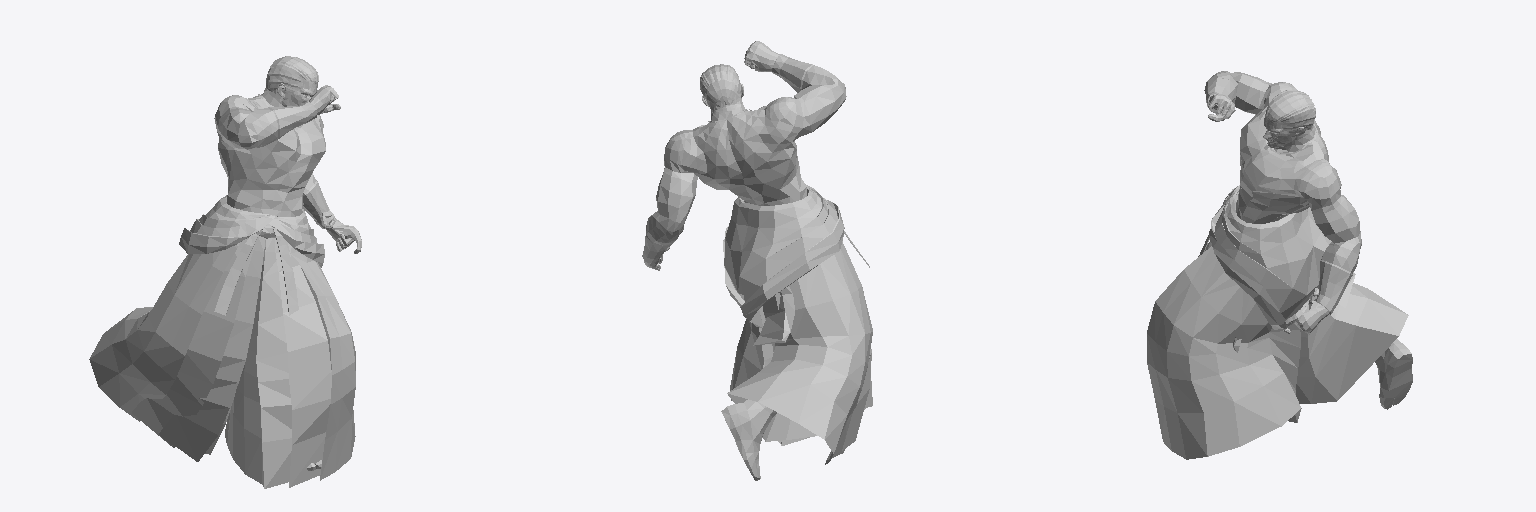
The model's file is geese_attack_000021.obj.
3 renders of one model, left to right at view 1: azimuth 30°, elevation 25°; view 2: azimuth 150°, elevation 25°; view 3: azimuth 270°, elevation 25°, orthographic.
Parts seen in each view (by area): view 1: GamemodelShape1.002, hairShape; view 2: GamemodelShape1.002, hairShape; view 3: GamemodelShape1.002, hairShape.
Part boxes in pixels (left/top/right/bottom): GamemodelShape1.002: left=89, top=79, right=361, bottom=488; hairShape: left=264, top=56, right=318, bottom=93; GamemodelShape1.002: left=642, top=41, right=872, bottom=480; hairShape: left=700, top=64, right=741, bottom=114; GamemodelShape1.002: left=1147, top=71, right=1412, bottom=459; hairShape: left=1266, top=90, right=1315, bottom=132.
Bounding box in the file's own units: 2.93 × 4.6 × 3.04.